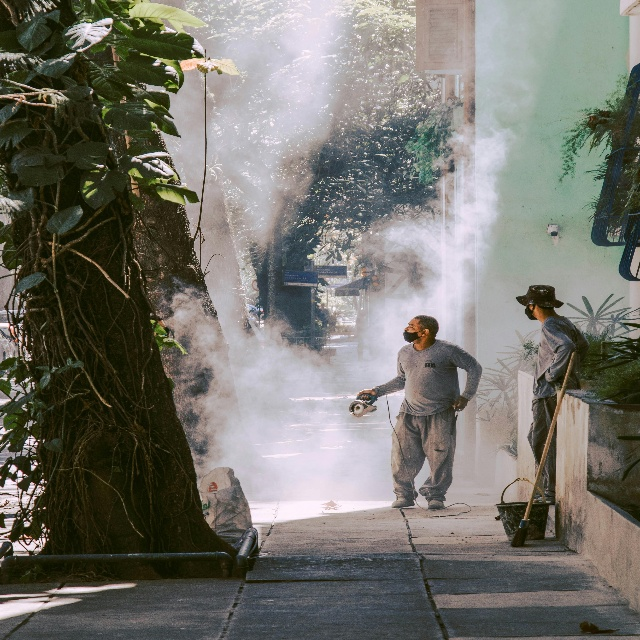Sin_guantes: (452, 395, 468, 413), (357, 387, 376, 399)
